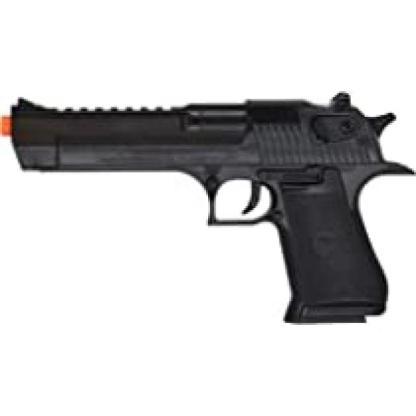handgun: (0, 89, 416, 357)
